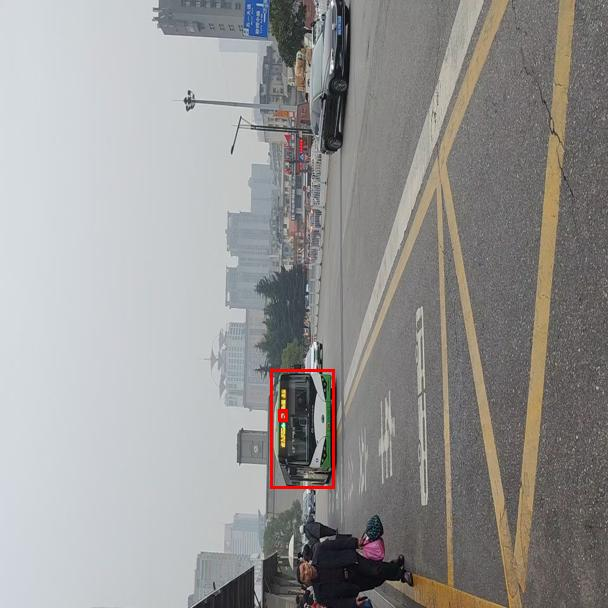bus: (270, 369, 334, 488)
screen: (278, 409, 287, 421)
